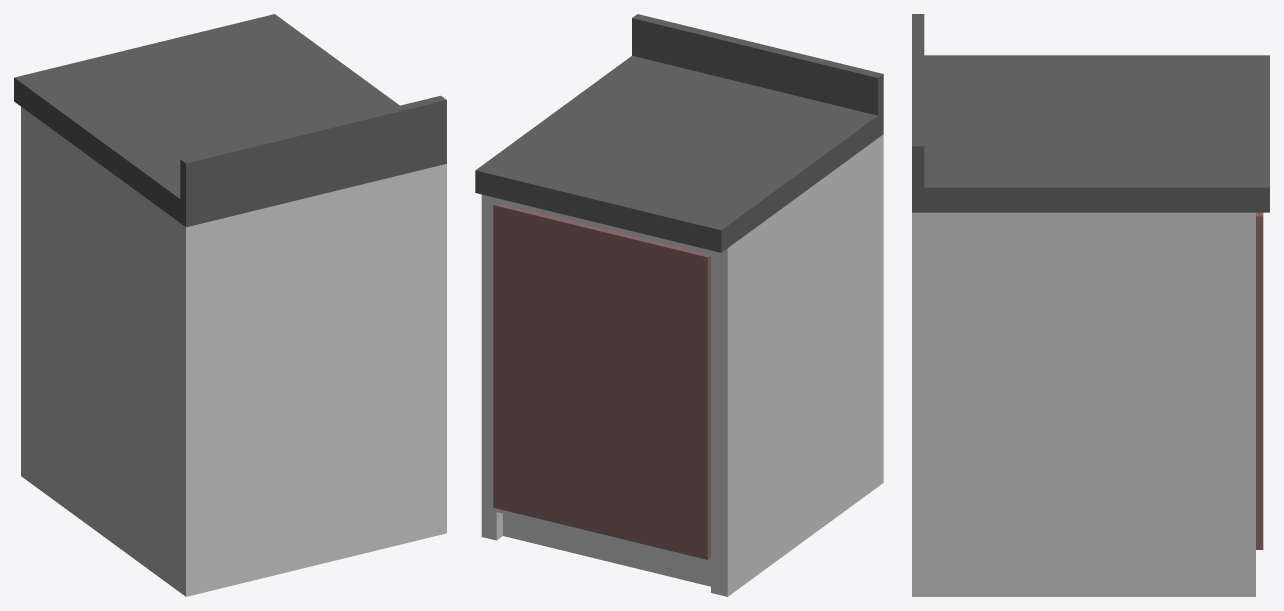
The model's file is ObsCabinetDoor01.fbx.
3 views of the same model, side by side, from view 1: azimuth 30°, elevation 25°; view 2: azimuth 150°, elevation 25°; view 3: azimuth 270°, elevation 25° (orthographic). The views are drawn at different scales.
Parts seen in each view (by area): view 1: polySurface6; view 2: polySurface6; view 3: polySurface6.
Boxes of the visible parts, x1,y1,x2,y2 form: polySurface6: (14, 14, 446, 596); polySurface6: (475, 14, 883, 596); polySurface6: (912, 14, 1269, 596).
Bounding box in the file's own units: 59.82 × 95.02 × 68.35.
